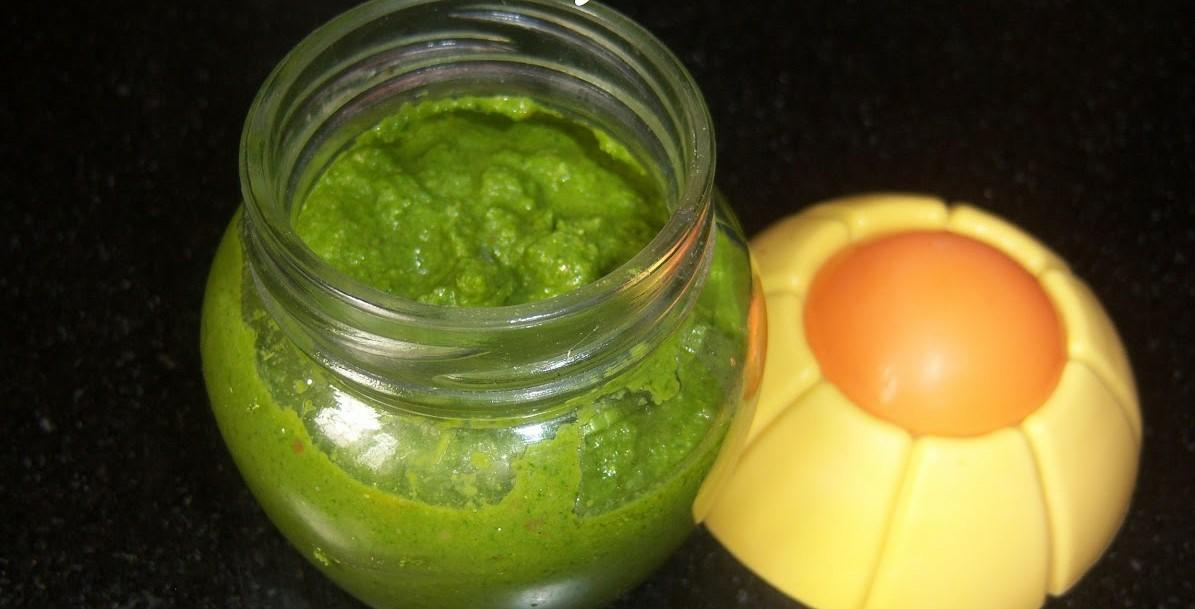GreenChutney: (201, 86, 751, 609)
